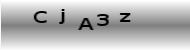3: (95, 13, 110, 26)
A: (77, 17, 93, 30)
C: (33, 10, 47, 24)
j: (57, 8, 65, 24)
z: (118, 12, 131, 22)
